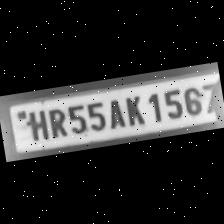1: (143, 90, 165, 124)
5: (82, 98, 108, 133), (158, 86, 184, 121), (63, 102, 88, 136)
6: (180, 83, 206, 117)
7: (200, 80, 222, 116)
A: (104, 96, 128, 131)
H: (22, 108, 48, 142)
K: (120, 92, 148, 129)
R: (42, 106, 68, 140)
